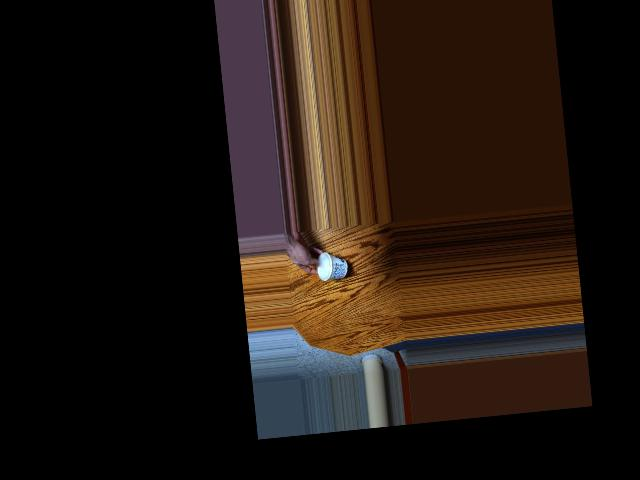cotage: (314, 249, 347, 283)
